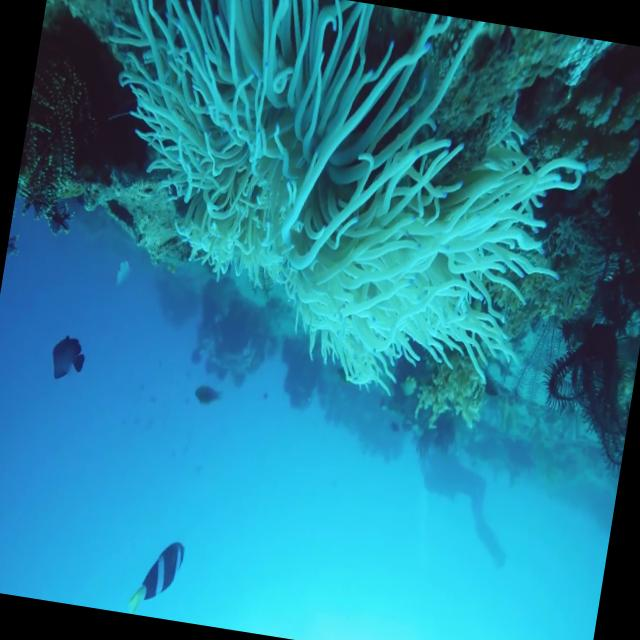fish: (121, 532, 192, 622), (38, 319, 95, 392)
